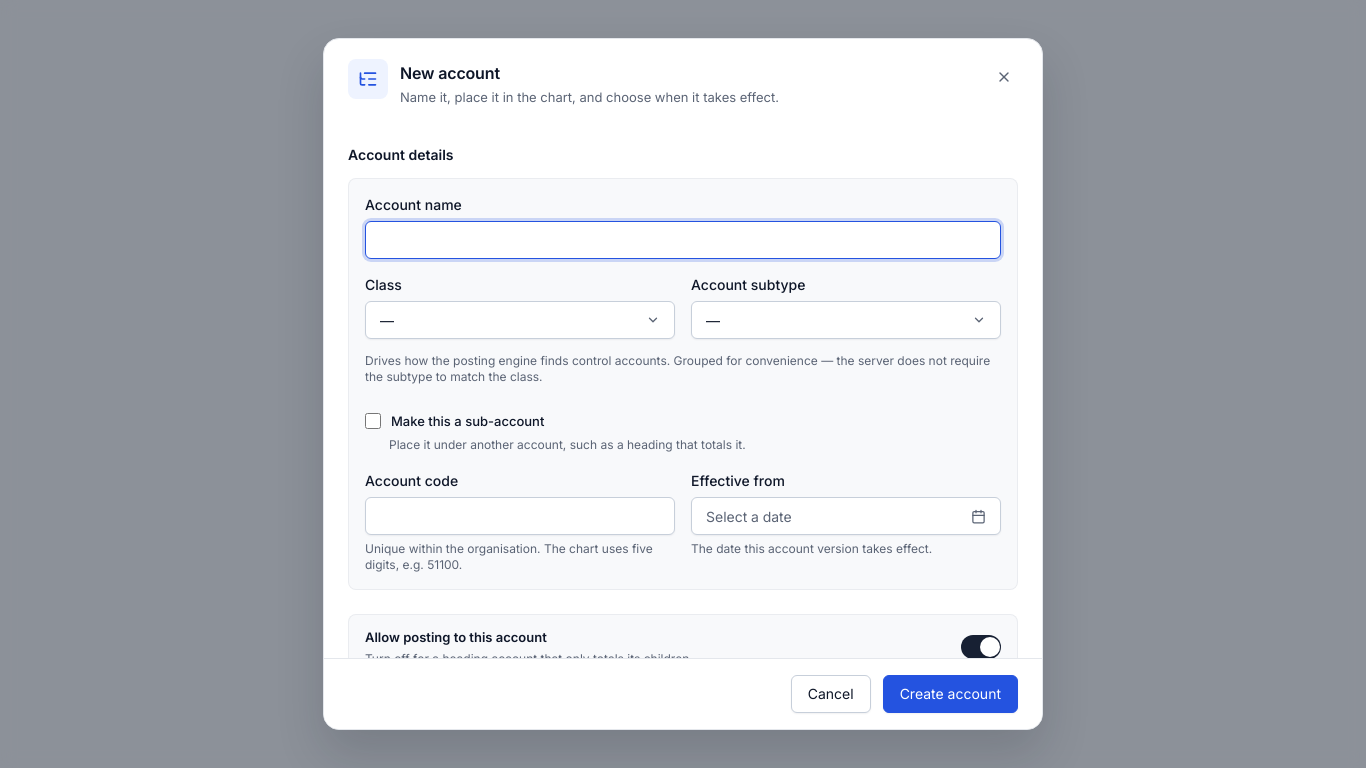
CreateAccountForm › offers all thirty subtypes, grouped, regardless of the class chosen
Click the dropdown named "Account subtype" at {"x": 713, "y": 320}, box left=691, top=301, right=1001, bottom=339
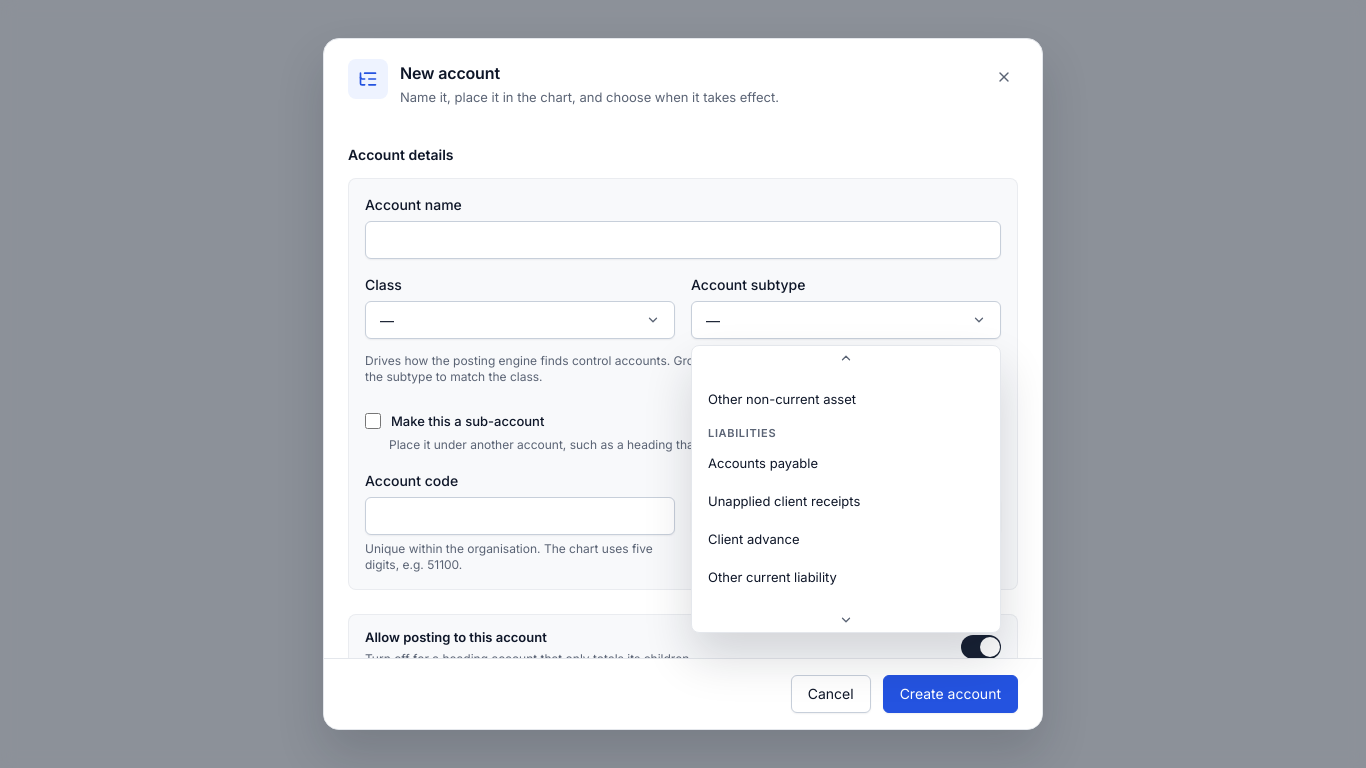
Now the list is shown, box left=691, top=345, right=1001, bottom=633
Now the option "Unapplied client receipts" is shown, box left=708, top=493, right=860, bottom=509
